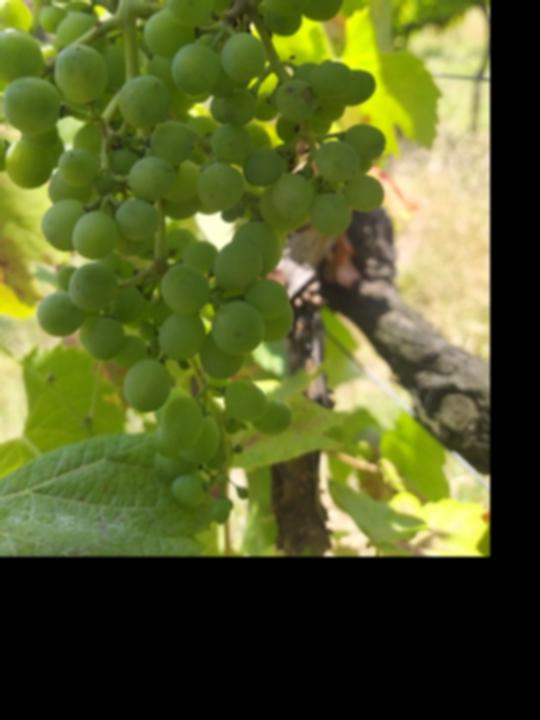grape: (0, 0, 387, 530)
